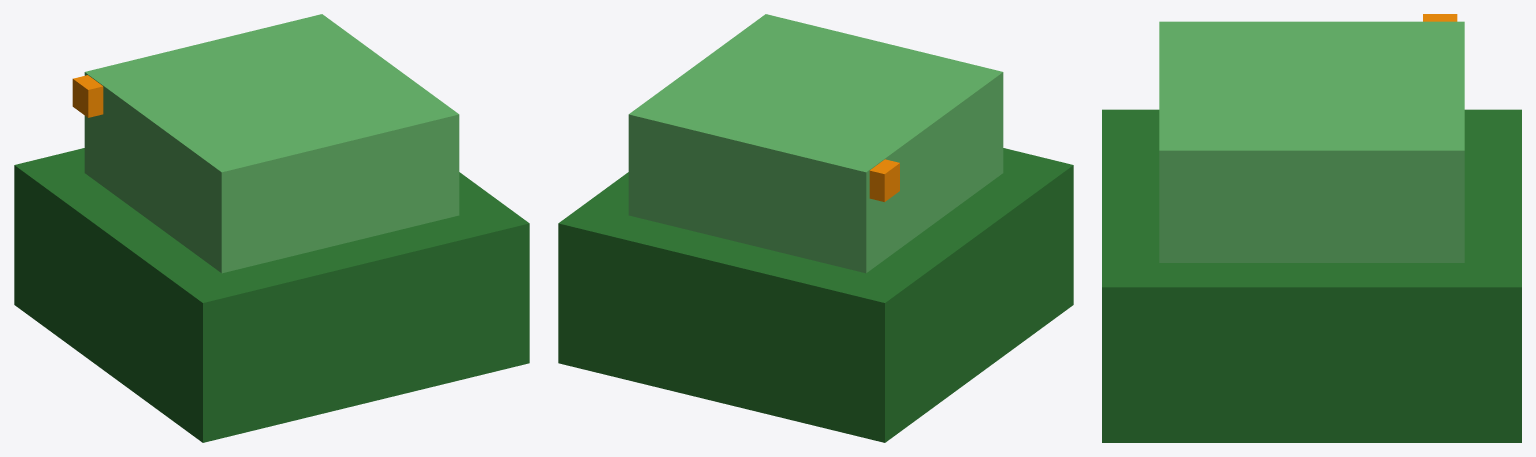
File: bush.glb
3 renders of one model, left to right at view 1: azimuth 30°, elevation 25°; view 2: azimuth 150°, elevation 25°; view 3: azimuth 270°, elevation 25°, orthographic. The views are drawn at different scales.
Visible parts, largest first — view 1: BushBase, BushTop, Flower.003; view 2: BushBase, BushTop, Flower.003; view 3: BushBase, BushTop.
Part boxes in pixels (<box>): BushBase: <box>14,148,529,442</box>; BushTop: <box>84,14,459,273</box>; Flower.003: <box>72,75,103,117</box>; BushBase: <box>558,148,1073,442</box>; BushTop: <box>628,14,1003,273</box>; Flower.003: <box>869,159,899,201</box>; BushBase: <box>1102,109,1521,442</box>; BushTop: <box>1159,21,1464,262</box>.
Size of the model in its own units: 2.2 by 1.55 by 2.2.
